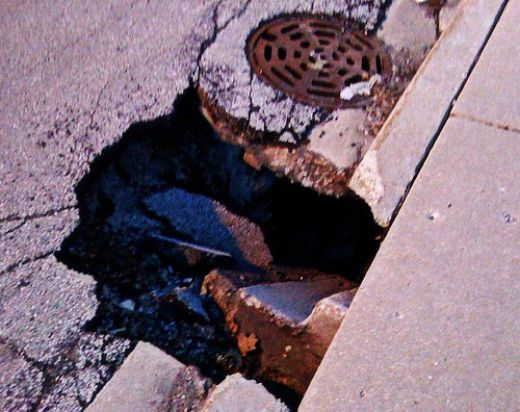pothole: (47, 79, 401, 411)
